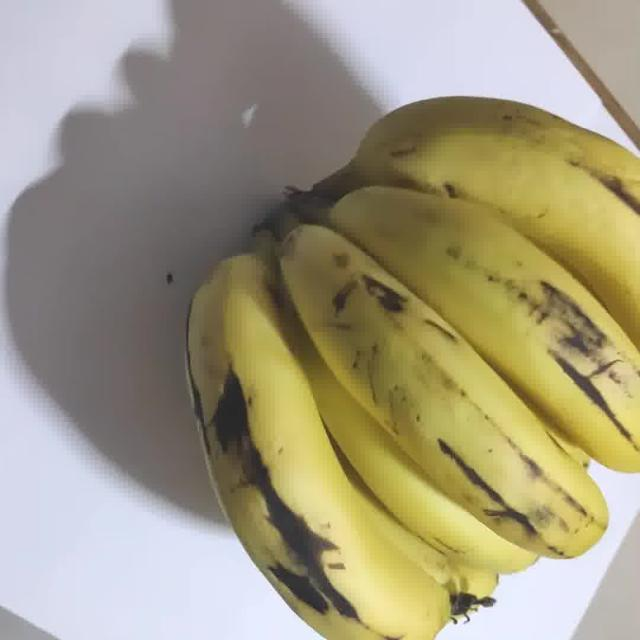apple: (93, 36, 640, 640)
